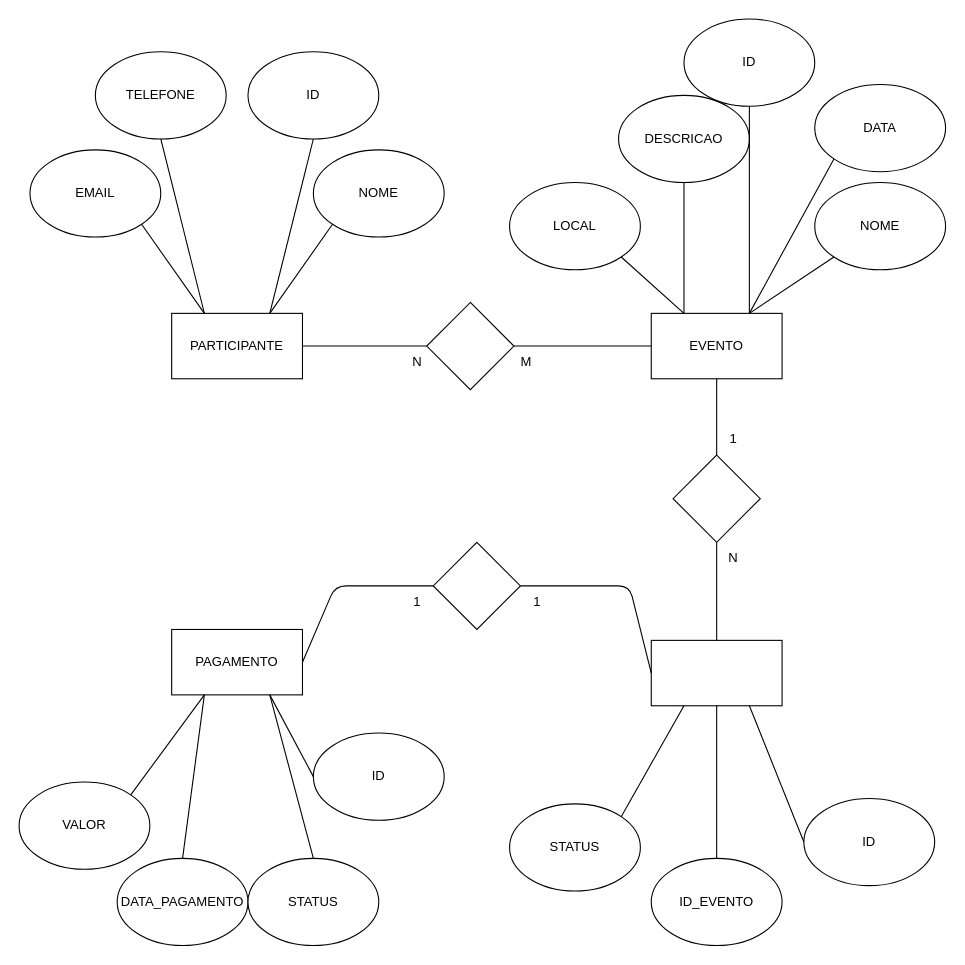
Some shapes in this 965 by 965 pixel diagram are drawn without their labels. Each missing label, with the centre of its shape:
"FAZ" goes at (x=470, y=345).
"GERA" goes at (x=476, y=585).
"INSCRICAO" goes at (x=716, y=672).
"TEM" goes at (x=716, y=498).
